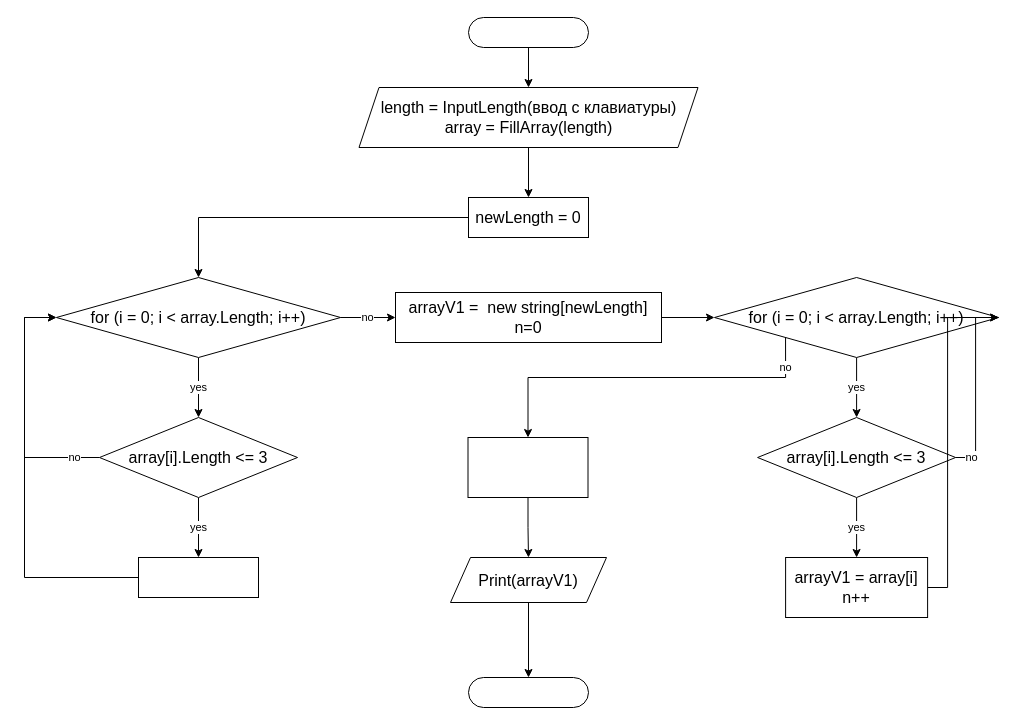
This 1025x725 diagram has some shape labels left out. Here are the shapes that lost their labels. From the top down, the centre of each, then its label:
At (x=528, y=32): "Start".
At (x=527, y=467): "return arrayV1".
At (x=198, y=577): "newLength++".
At (x=528, y=692): "End".
